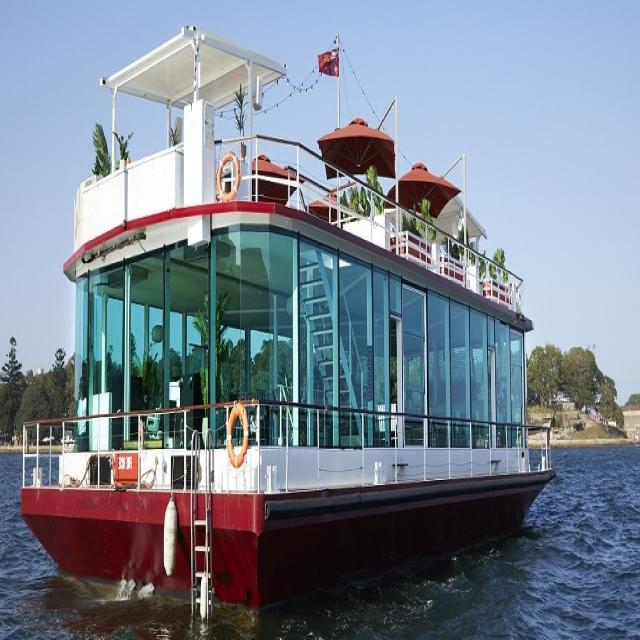houseboat: (20, 57, 562, 593)
